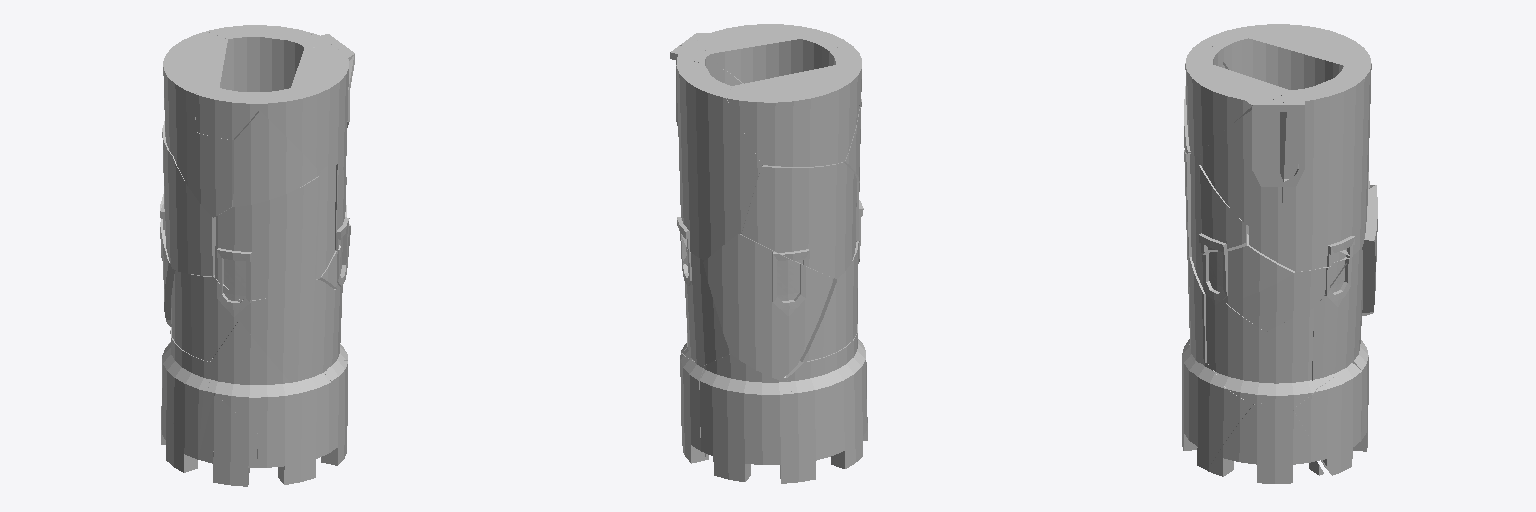
Rendered from destruction_tower_000011.obj.
3 views of the same model, side by side, from view 1: azimuth 30°, elevation 25°; view 2: azimuth 150°, elevation 25°; view 3: azimuth 270°, elevation 25° (orthographic).
Visible parts, largest first — view 1: tower.001_cell.024_Mesh.024, tower.001_cell.028_Mesh.028, tower.001_cell.021_Mesh.021, tower.001_cell.006_Mesh.006, tower.001_cell.011_Mesh.011, tower.001_cell.002_Mesh.002, tower.001_cell.013_Mesh.013, tower.001_cell.015_Mesh.015, tower.001_cell.009_Mesh.009, tower.001_cell.003_Mesh.003, tower.001_cell.017_Mesh.017, tower.001_cell.014_Mesh.014 (+10 smaller); view 2: tower.001_cell.025_Mesh.025, tower.001_cell.017_Mesh.017, tower.001_cell.007_Mesh.007, tower.001_cell.015_Mesh.015, tower.001_cell.003_Mesh.003, tower.001_cell.028_Mesh.028, tower.001_cell.005_Mesh.005, tower.001_cell.012_Mesh.012, tower.001_cell.009_Mesh.009, tower.001_cell.029_Mesh.029, tower.001_cell.006_Mesh.006, tower.001_cell.026_Mesh.026 (+2 smaller); view 3: tower.001_cell.017_Mesh.017, tower.001_cell.020_Mesh.020, tower.001_cell.015_Mesh.015, tower.001_cell.028_Mesh.028, tower.001_cell.030_Mesh.030, tower.001_cell.029_Mesh.029, tower.001_cell_Mesh, tower.001_cell.012_Mesh.012, tower.001_cell.016_Mesh.016, tower.001_cell.023_Mesh.023, tower.001_cell.010_Mesh.010, tower.001_cell.026_Mesh.026 (+10 smaller).
Boxes of the visible parts, <box> form: tower.001_cell.024_Mesh.024: <box>215,176,319,301</box>; tower.001_cell.028_Mesh.028: <box>251,47,354,170</box>; tower.001_cell.021_Mesh.021: <box>239,279,335,384</box>; tower.001_cell.006_Mesh.006: <box>165,388,257,486</box>; tower.001_cell.011_Mesh.011: <box>257,375,331,484</box>; tower.001_cell.002_Mesh.002: <box>232,111,320,206</box>; tower.001_cell.013_Mesh.013: <box>209,320,292,433</box>; tower.001_cell.015_Mesh.015: <box>163,31,227,157</box>; tower.001_cell.009_Mesh.009: <box>171,271,239,361</box>; tower.001_cell.003_Mesh.003: <box>160,121,215,276</box>; tower.001_cell.017_Mesh.017: <box>207,25,313,91</box>; tower.001_cell.014_Mesh.014: <box>174,132,231,217</box>; tower.001_cell.025_Mesh.025: <box>703,234,833,379</box>; tower.001_cell.017_Mesh.017: <box>676,57,762,260</box>; tower.001_cell.007_Mesh.007: <box>700,354,817,483</box>; tower.001_cell.015_Mesh.015: <box>727,65,859,166</box>; tower.001_cell.003_Mesh.003: <box>742,162,856,278</box>; tower.001_cell.028_Mesh.028: <box>697,24,847,83</box>; tower.001_cell.005_Mesh.005: <box>786,330,865,459</box>; tower.001_cell.012_Mesh.012: <box>682,252,729,365</box>; tower.001_cell.009_Mesh.009: <box>800,241,860,361</box>; tower.001_cell.029_Mesh.029: <box>680,353,705,463</box>; tower.001_cell.006_Mesh.006: <box>831,352,867,468</box>; tower.001_cell.026_Mesh.026: <box>670,45,720,125</box>; tower.001_cell.017_Mesh.017: <box>1312,62,1371,256</box>; tower.001_cell.020_Mesh.020: <box>1199,98,1286,225</box>; tower.001_cell.015_Mesh.015: <box>1249,24,1370,89</box>; tower.001_cell.028_Mesh.028: <box>1185,45,1287,156</box>; tower.001_cell.030_Mesh.030: <box>1208,403,1322,483</box>; tower.001_cell.029_Mesh.029: <box>1293,360,1361,475</box>; tower.001_cell_Mesh: <box>1206,295,1265,403</box>; tower.001_cell.012_Mesh.012: <box>1313,248,1362,388</box>; tower.001_cell.016_Mesh.016: <box>1262,308,1315,408</box>; tower.001_cell.023_Mesh.023: <box>1191,362,1253,470</box>; tower.001_cell.010_Mesh.010: <box>1193,234,1294,302</box>; tower.001_cell.026_Mesh.026: <box>1279,87,1311,226</box>.
Bounding box in the file's own units: 45.14 × 97.41 × 45.14.